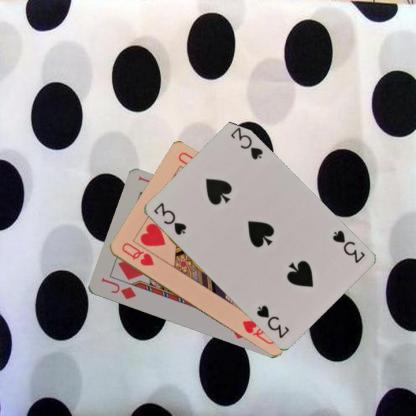3s: (330, 227, 366, 265), (150, 200, 187, 236)
Jd: (98, 275, 137, 301)
Qh: (118, 240, 155, 267)
